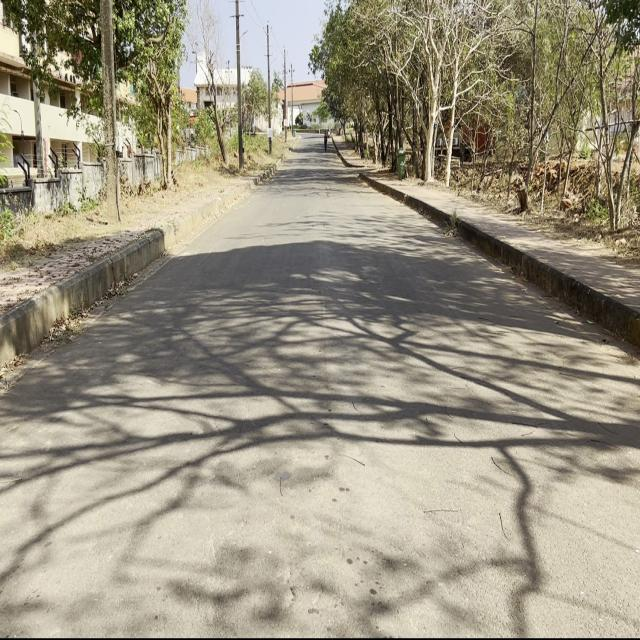Road: (5, 144, 637, 628)
